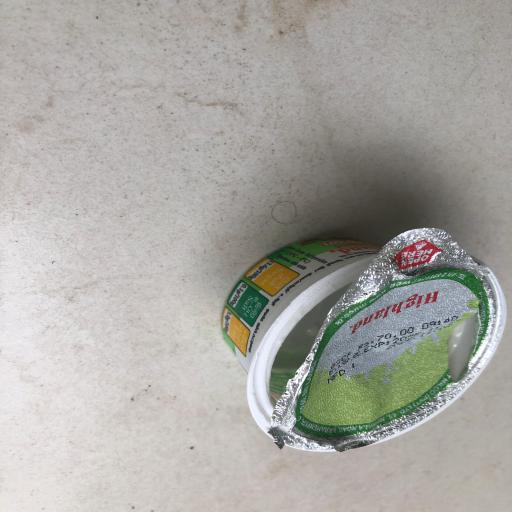waste: (201, 212, 504, 460)
